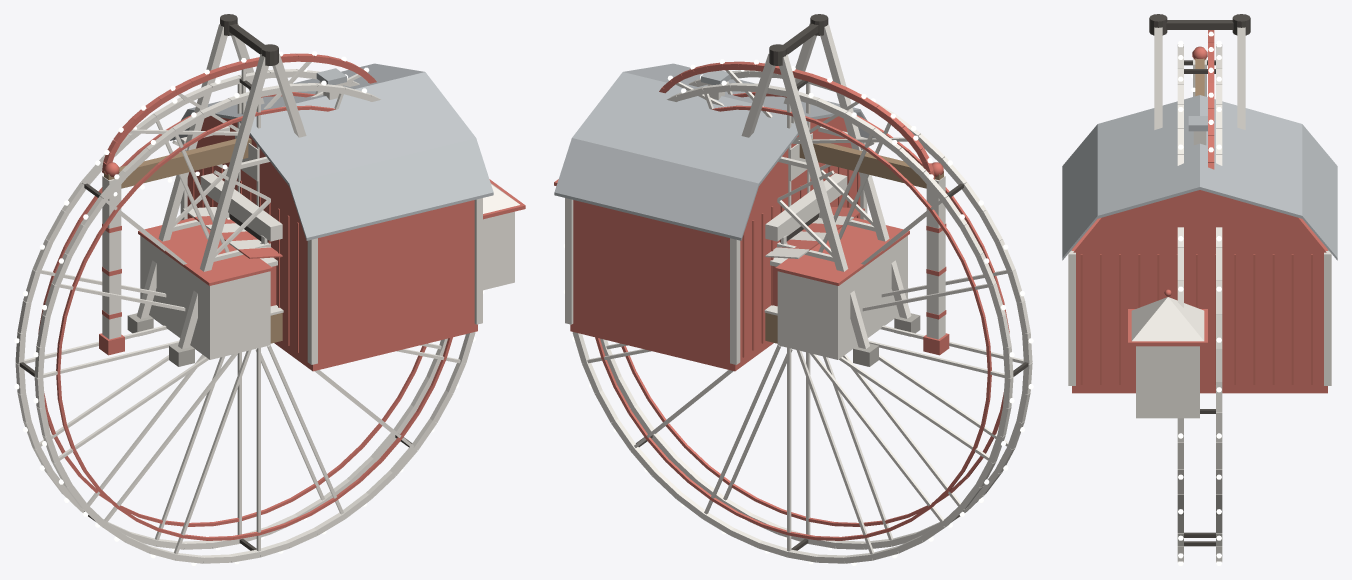
Rendered from fair_kit.glb.
The picture shows the model from 3 angles, left to right: view 1: azimuth 30°, elevation 25°; view 2: azimuth 150°, elevation 25°; view 3: azimuth 270°, elevation 25°; orthographic projection.
Parts seen in each view (by area): view 1: ff_livebarn_mesh, ff_wheel_rotor_mesh, ff_stall_red_mesh, ff_gate_mesh, ff_wheel_frame_mesh; view 2: ff_livebarn_mesh, ff_wheel_rotor_mesh, ff_stall_red_mesh, ff_wheel_frame_mesh, ff_gate_mesh; view 3: ff_livebarn_mesh, ff_gate_mesh, ff_wheel_rotor_mesh, ff_wheel_frame_mesh.
Boxes of the visible parts, left/top/right/bottom form: ff_livebarn_mesh: left=170, top=63, right=493, bottom=371; ff_wheel_rotor_mesh: left=14, top=68, right=484, bottom=565; ff_stall_red_mesh: left=138, top=207, right=283, bottom=359; ff_gate_mesh: left=99, top=51, right=525, bottom=355; ff_wheel_frame_mesh: left=127, top=14, right=306, bottom=366; ff_livebarn_mesh: left=554, top=63, right=874, bottom=371; ff_wheel_rotor_mesh: left=563, top=70, right=1033, bottom=565; ff_stall_red_mesh: left=764, top=207, right=909, bottom=359; ff_wheel_frame_mesh: left=741, top=14, right=920, bottom=366; ff_gate_mesh: left=554, top=59, right=949, bottom=355; ff_livebarn_mesh: left=1062, top=95, right=1337, bottom=393; ff_gate_mesh: left=1128, top=30, right=1214, bottom=418; ff_wheel_rotor_mesh: left=1177, top=40, right=1222, bottom=565; ff_wheel_frame_mesh: left=1149, top=14, right=1250, bottom=129.
Bounding box in the file's own units: 16.93 × 18.04 × 8.6.
